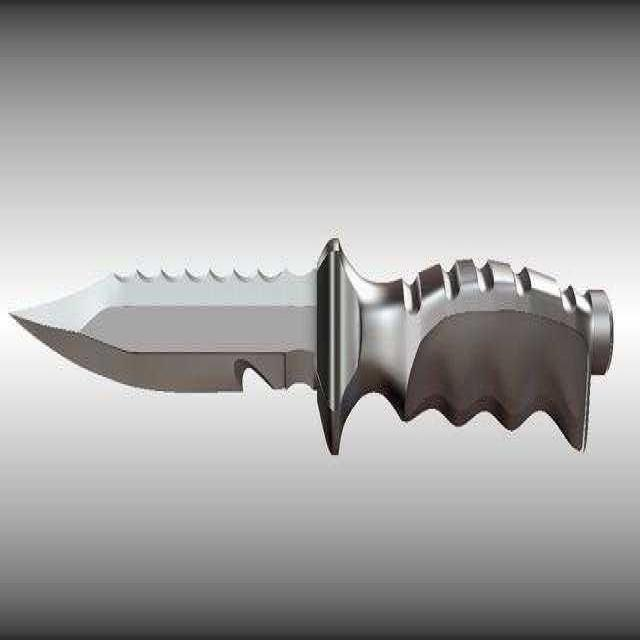weapon: (0, 259, 625, 461)
